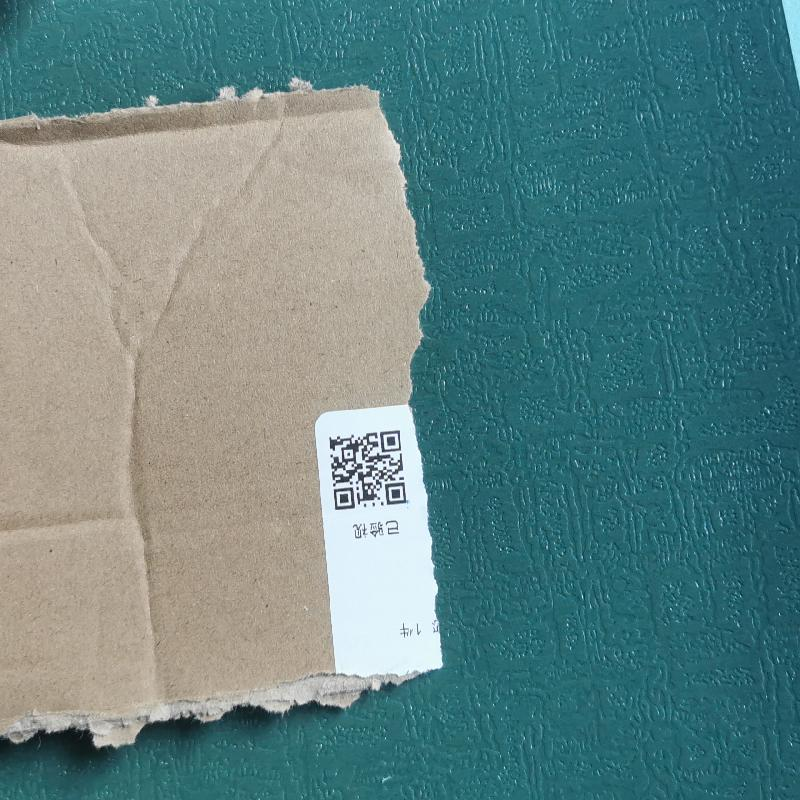boxes: (3, 73, 447, 737)
